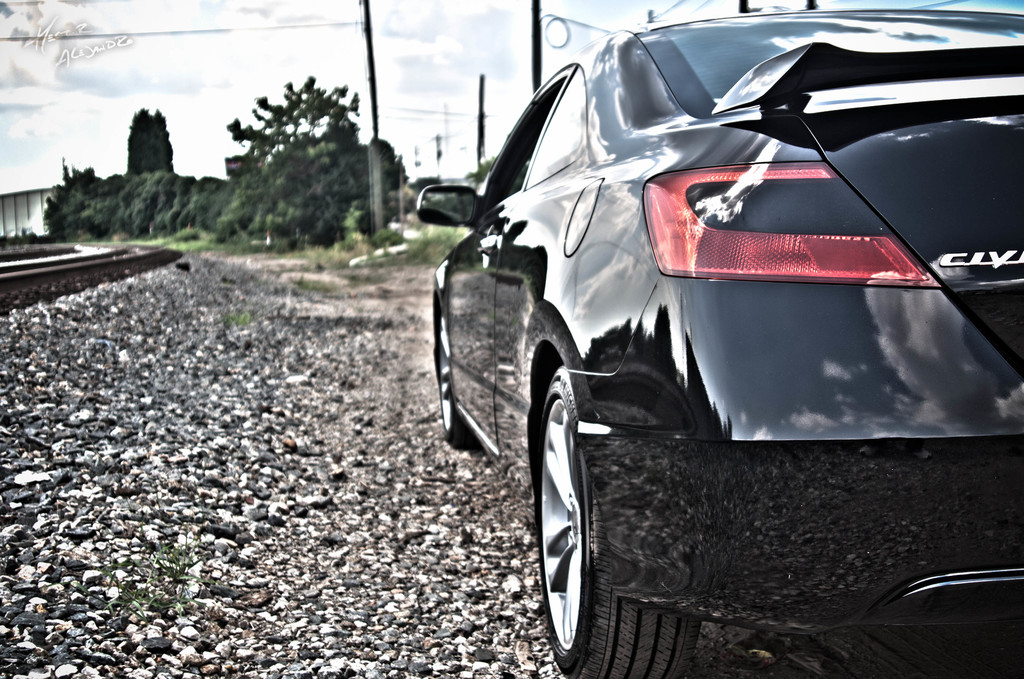Car: (417, 12, 992, 650)
